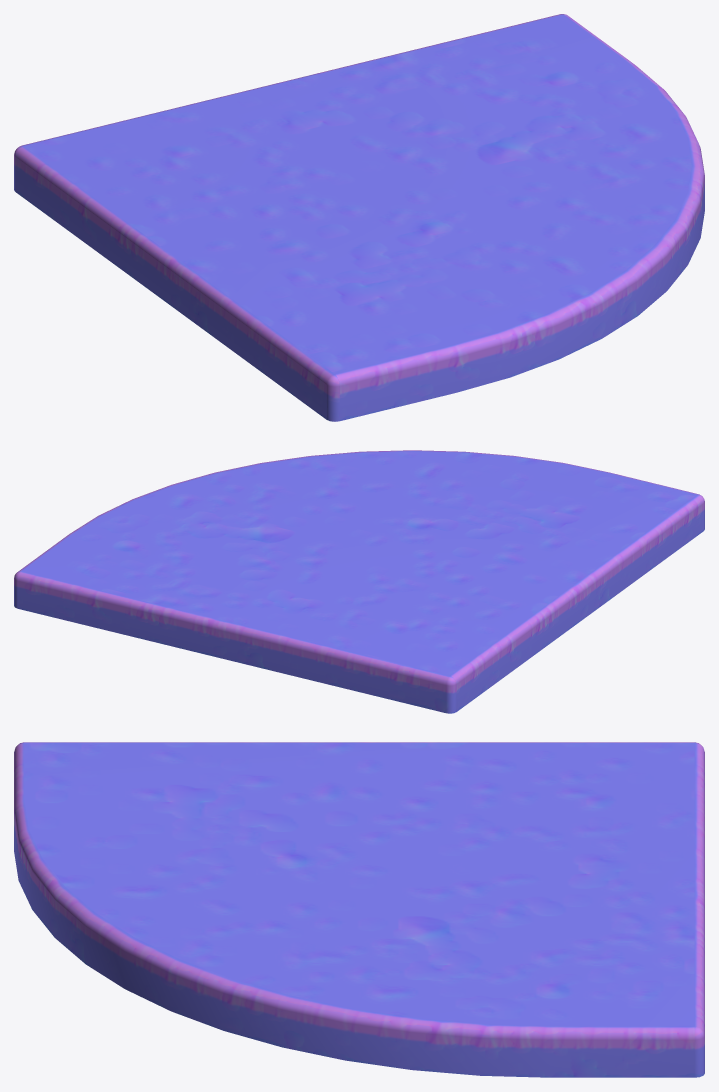
File: sm_curb_05.fbx
The picture shows the model from 3 angles, top to bottom: view 1: azimuth 30°, elevation 25°; view 2: azimuth 150°, elevation 25°; view 3: azimuth 270°, elevation 25°; orthographic projection. The views are drawn at different scales.
Visible parts, largest first — view 1: sm_curb_05; view 2: sm_curb_05; view 3: sm_curb_05.
Boxes of the visible parts, left/top/right/bottom form: sm_curb_05: left=14, top=14, right=704, bottom=421; sm_curb_05: left=14, top=450, right=704, bottom=713; sm_curb_05: left=14, top=742, right=704, bottom=1077.
Bounding box in the file's own units: 200 × 15 × 200.
1 material, 1 textured.
